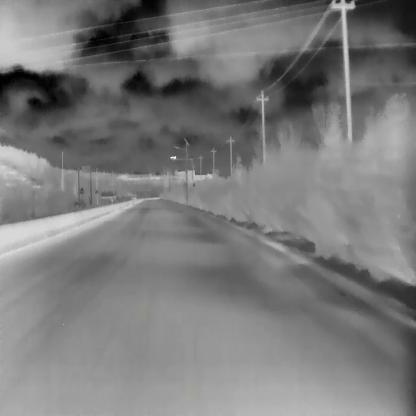truck: (130, 193, 136, 199)
